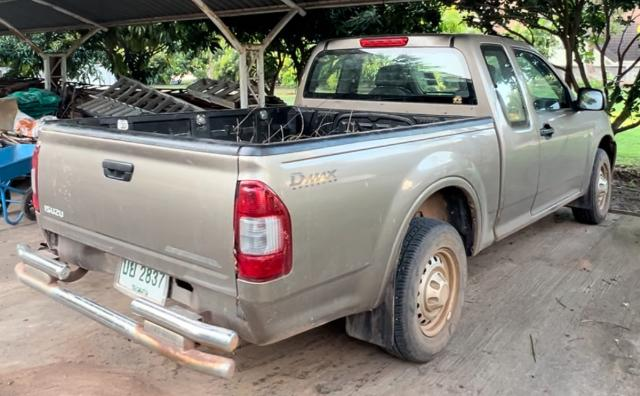pickup-truck: (16, 34, 619, 378)
